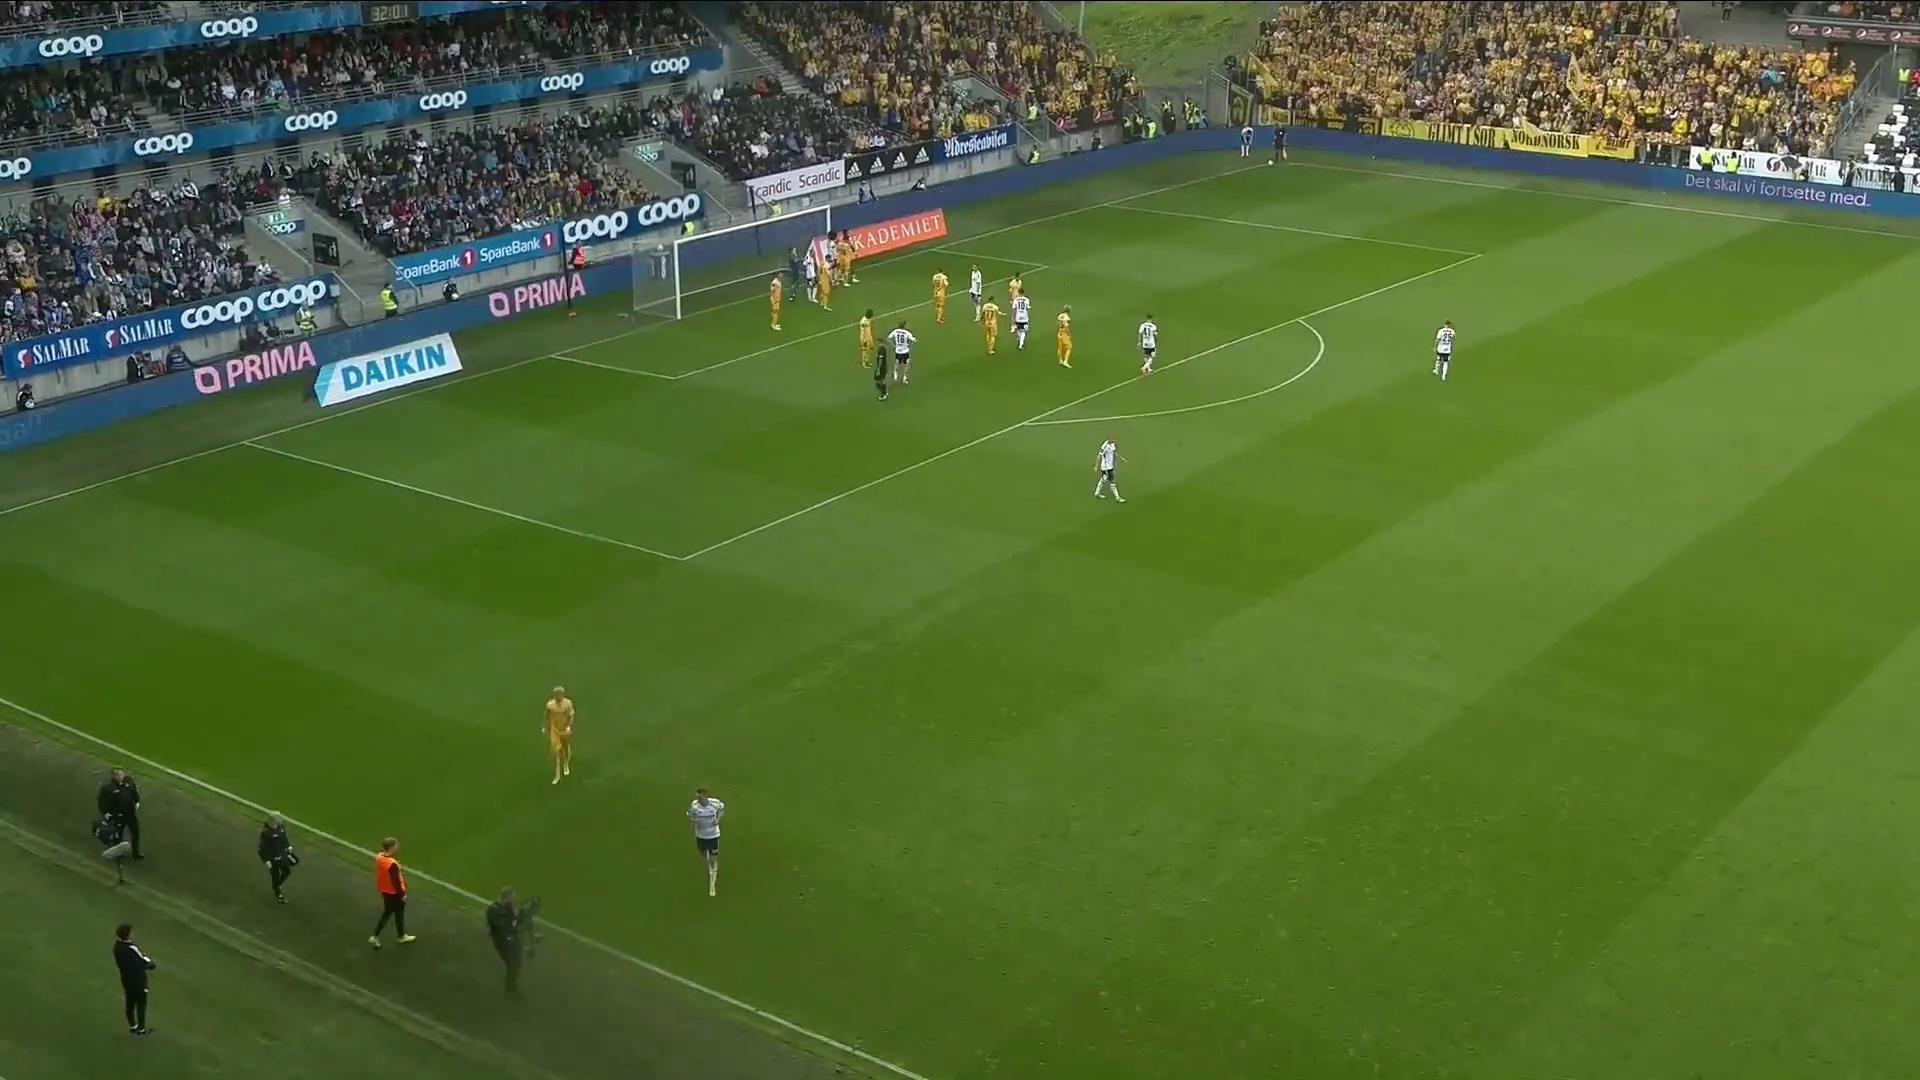ball: (1267, 158, 1274, 166)
player: (686, 786, 725, 899), (543, 685, 575, 785), (1093, 434, 1128, 502), (886, 319, 917, 386), (833, 229, 858, 288), (1136, 312, 1159, 376), (1433, 319, 1456, 381), (980, 295, 1003, 355), (1011, 287, 1032, 350), (871, 339, 890, 401), (1056, 304, 1074, 369), (816, 254, 836, 311), (824, 230, 842, 288), (932, 266, 950, 324), (785, 244, 803, 301), (858, 308, 875, 367), (768, 271, 784, 330), (968, 262, 983, 321), (803, 249, 818, 303), (1270, 123, 1288, 164), (806, 249, 819, 301), (1007, 271, 1023, 310), (1720, 1, 1733, 24)
